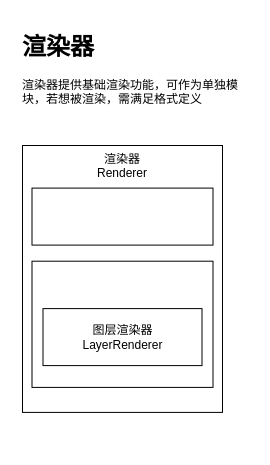
The diagram is 270 pixels wide and 465 high, and some of its shapes have lost their labels. The box of each missing label's shape, as (x1, y1, x2, y2) in pixels:
大屏渲染器 BoardRenderer: (31, 260, 213, 387)
配置表单渲染器 FormRenderer: (31, 187, 213, 245)
